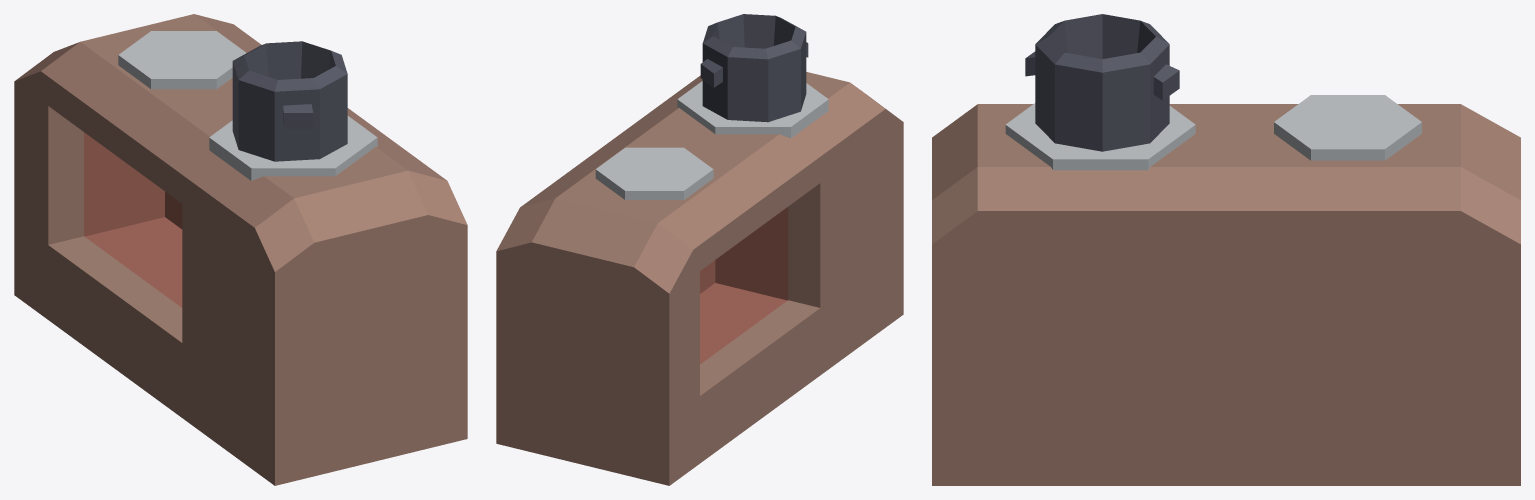
File: oven.fbx
3 renders of one model, left to right at view 1: azimuth 30°, elevation 25°; view 2: azimuth 150°, elevation 25°; view 3: azimuth 270°, elevation 25°, orthographic. The views are drawn at different scales.
Visible parts, largest first — view 1: Cube.005; view 2: Cube.005; view 3: Cube.005.
Part boxes in pixels (x1,y1,x2,y2): Cube.005: (14,14,467,485); Cube.005: (496,14,903,485); Cube.005: (932,14,1520,485).
Bounding box in the file's own units: 128 × 220 × 299.
